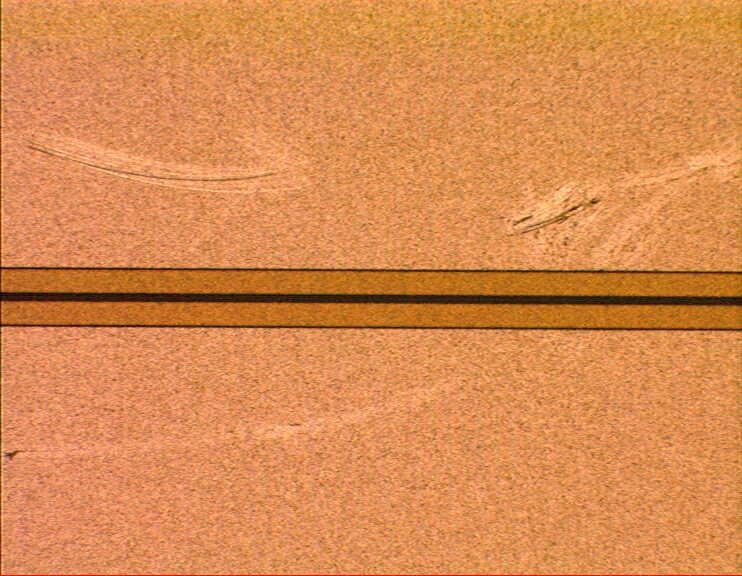SCRATCH: (2, 114, 742, 477)
